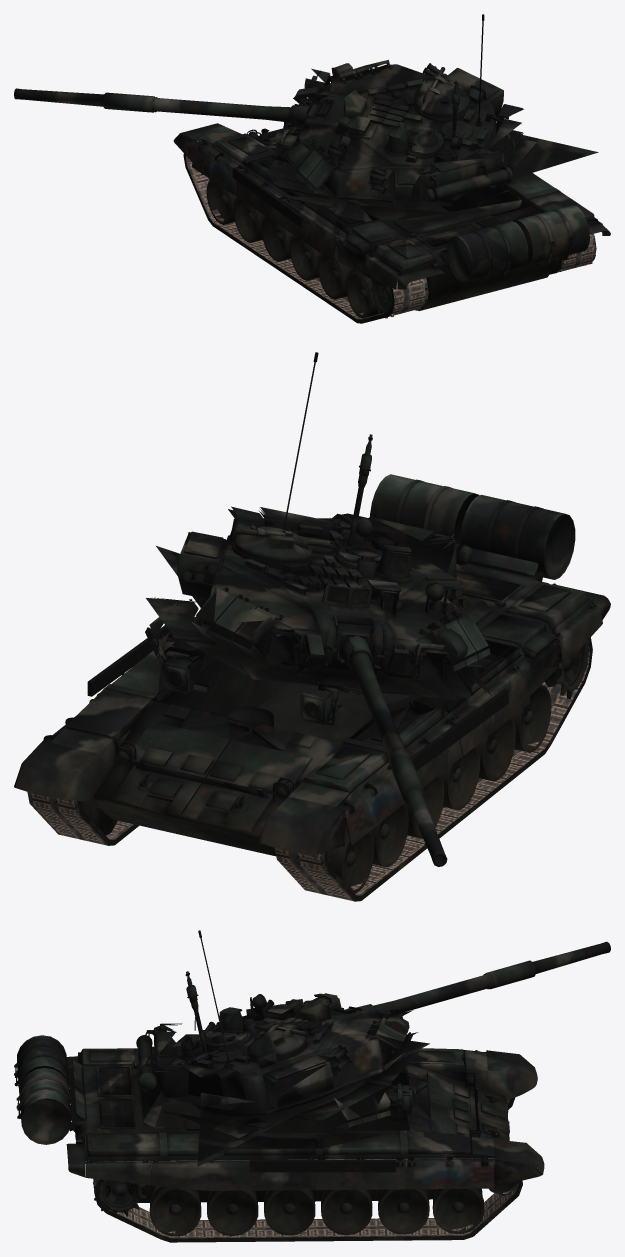
Rendered from t90-wreck.glb.
3 views of the same model, one above another, from view 1: azimuth 30°, elevation 25°; view 2: azimuth 150°, elevation 25°; view 3: azimuth 270°, elevation 25° (orthographic). The views are drawn at different scales.
Parts seen in each view (by area): view 1: hull, turret, barrel; view 2: hull, turret, barrel; view 3: hull, turret, barrel.
Boxes of the visible parts, x1,y1,x2,y2 form: hull: (173,122,610,323); turret: (267,14,598,221); barrel: (14,88,312,128); hull: (14,474,610,901); turret: (146,352,491,700); barrel: (339,634,447,866); hull: (14,1017,544,1242); turret: (154,930,429,1166); barrel: (348,941,610,1012).
Size of the model in its own units: 6.67 by 4.23 by 8.14.
Materials: 2 (2 with a texture image).
